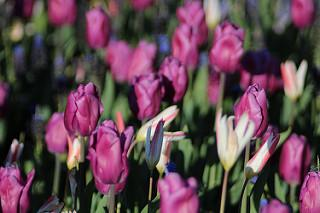tulip: (87, 122, 132, 189), (64, 82, 103, 133), (211, 18, 246, 73), (156, 170, 198, 213), (0, 164, 36, 213), (235, 83, 267, 137), (280, 132, 311, 184), (134, 70, 164, 115), (160, 55, 189, 100), (300, 172, 320, 213)
